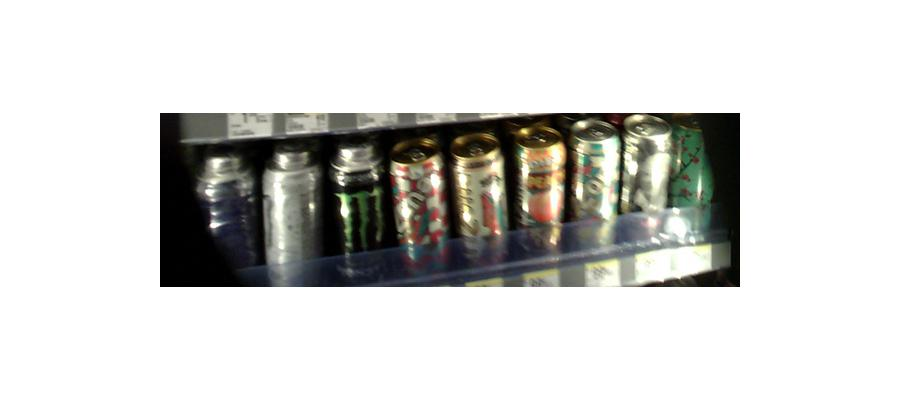bottle: (327, 142, 390, 277), (263, 142, 322, 284), (200, 148, 261, 278), (392, 142, 448, 275), (511, 130, 565, 264), (453, 140, 507, 268), (569, 123, 619, 254), (626, 117, 675, 246), (669, 119, 712, 246)
